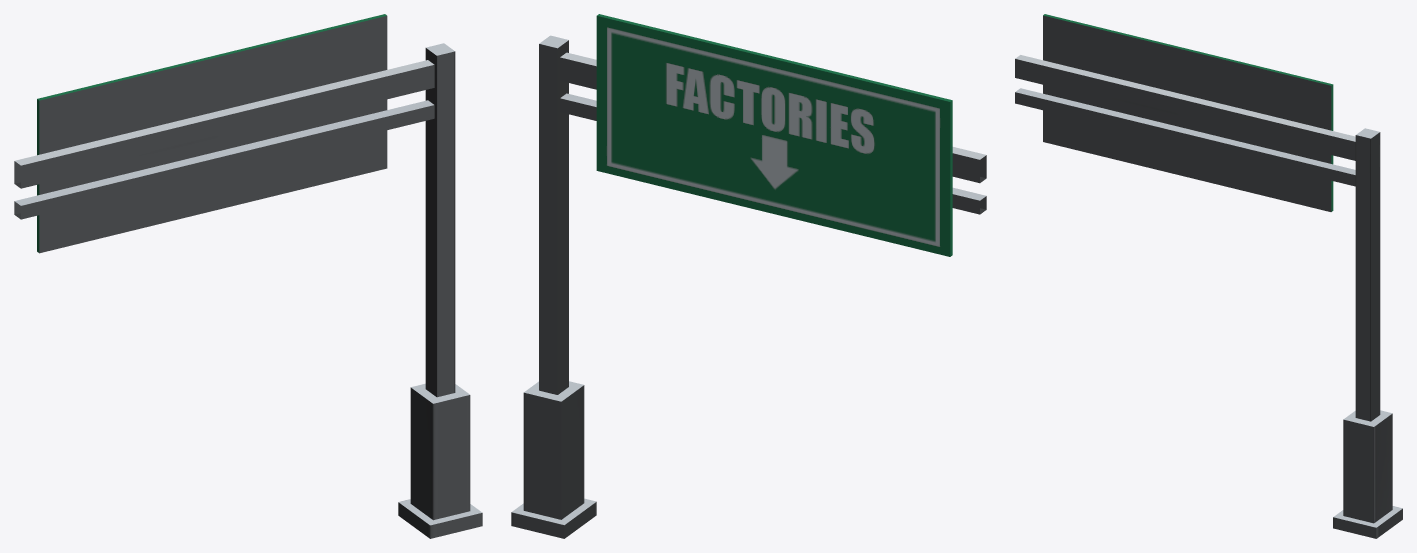
The model's file is Prop_Districtsign_08.fbx.
The picture shows the model from 3 angles, left to right: view 1: azimuth 30°, elevation 25°; view 2: azimuth 150°, elevation 25°; view 3: azimuth 330°, elevation 25°; orthographic projection. The views are drawn at different scales.
Visible parts, largest first — view 1: road_sign3; view 2: road_sign3; view 3: road_sign3.
Boxes of the visible parts, left/top/right/bottom form: road_sign3: left=14, top=14, right=482, bottom=538; road_sign3: left=511, top=14, right=986, bottom=538; road_sign3: left=1015, top=14, right=1402, bottom=538.
Size of the model in its own units: 9.01 by 9.86 by 1.11.
Materials: 1 (1 with a texture image).
